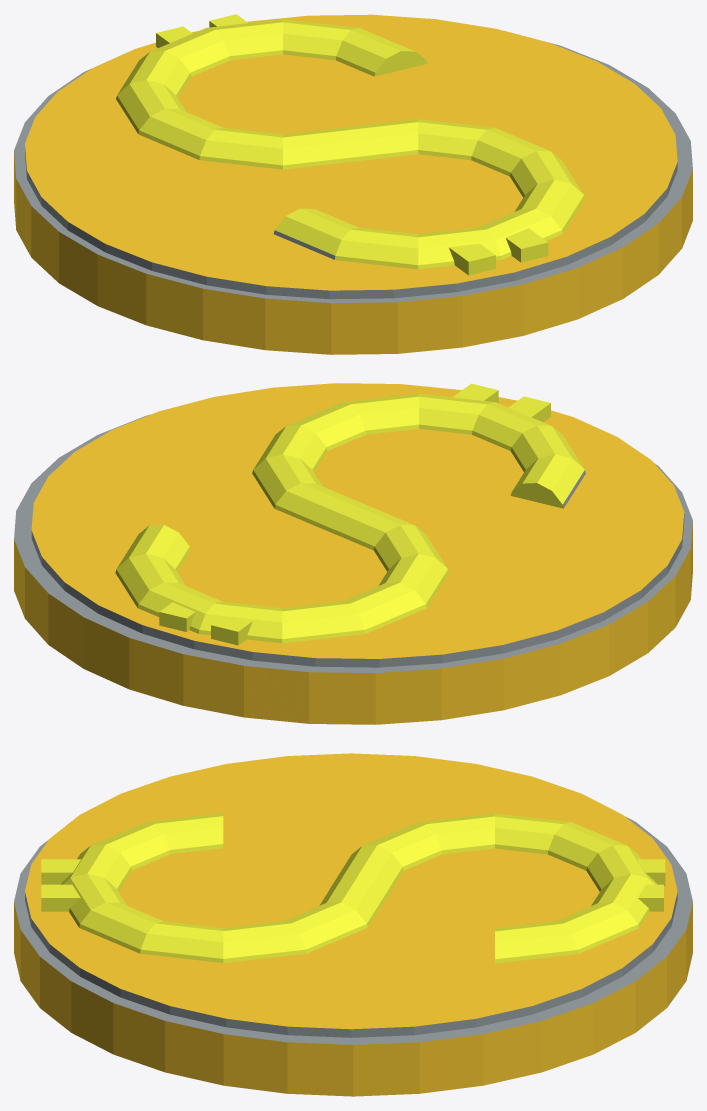
Rendered from (YnZp)MoedaLowPolly.fbx.
3 renders of one model, top to bottom at view 1: azimuth 30°, elevation 25°; view 2: azimuth 150°, elevation 25°; view 3: azimuth 270°, elevation 25°, orthographic.
Parts seen in each view (by area): view 1: Torus; view 2: Torus; view 3: Torus.
Part boxes in pixels (left/top/right/bottom): Torus: left=14, top=14, right=692, bottom=354; Torus: left=14, top=383, right=692, bottom=724; Torus: left=14, top=753, right=692, bottom=1096.
Bounding box in the file's own units: 200 × 25.78 × 200.
